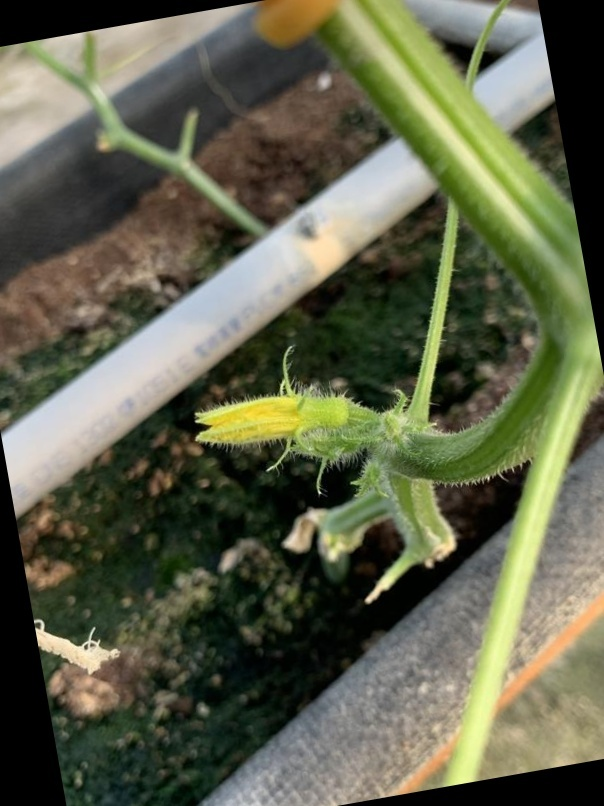bud: (193, 389, 379, 471)
